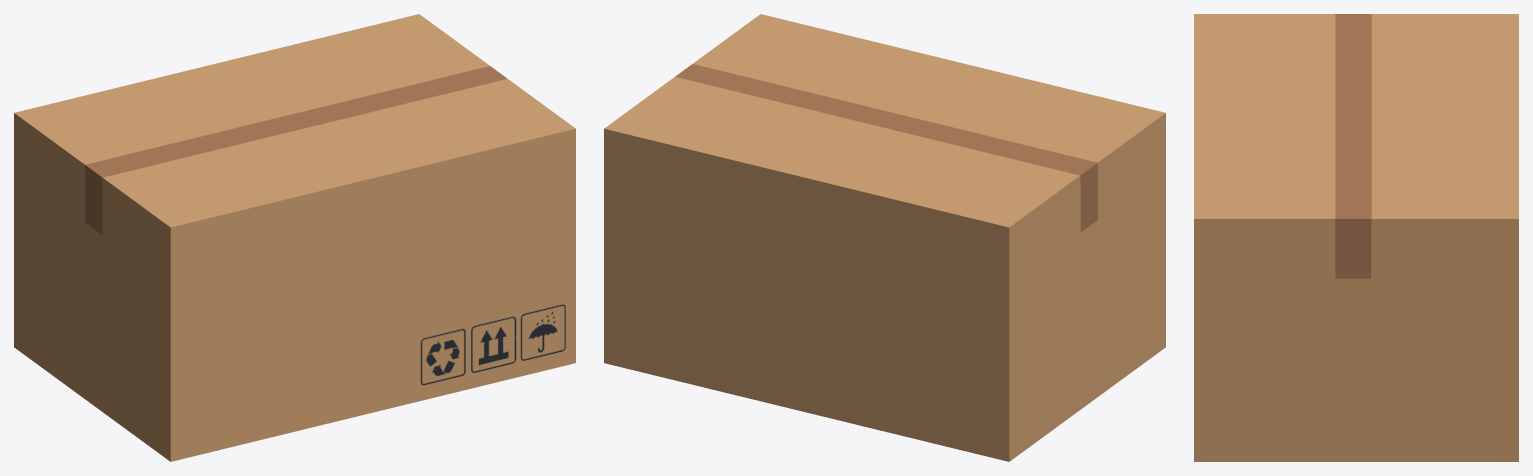
3 renders of one model, left to right at view 1: azimuth 30°, elevation 25°; view 2: azimuth 150°, elevation 25°; view 3: azimuth 270°, elevation 25°, orthographic. The views are drawn at different scales.
Visible parts, largest first — view 1: Box, Part1, Part2; view 2: Box, Part2, Part1; view 3: Box, Part2, Part1.
Boxes of the visible parts, box(x1,y1,x2,y2) form: Box: box(14, 118, 575, 461); Part1: box(93, 72, 575, 232); Part2: box(14, 14, 498, 175); Box: box(604, 118, 1165, 461); Part2: box(604, 70, 1088, 232); Part1: box(684, 14, 1165, 173); Box: box(1194, 224, 1518, 461); Part2: box(1354, 14, 1518, 224); Part1: box(1194, 14, 1353, 224).
Bounding box in the file's own units: 595 × 329 × 399.
1 material, 1 textured.
